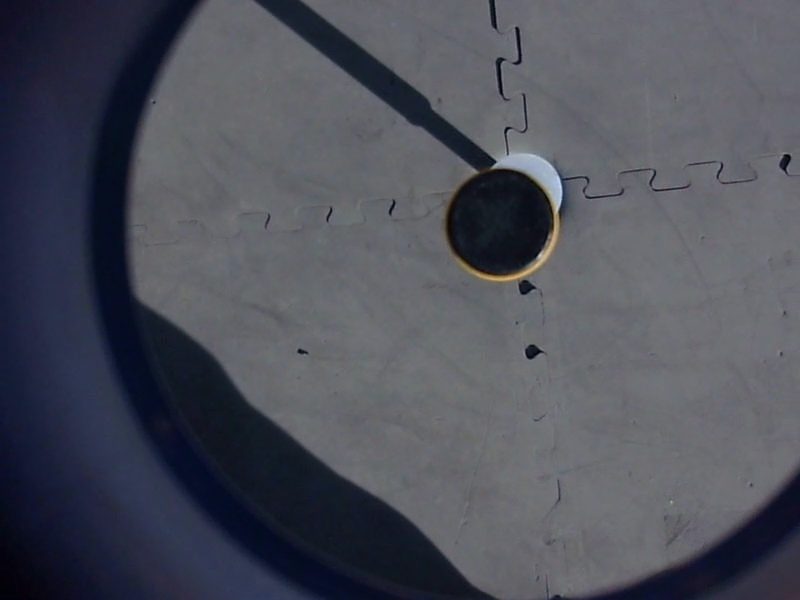tip: (439, 164, 564, 287)
